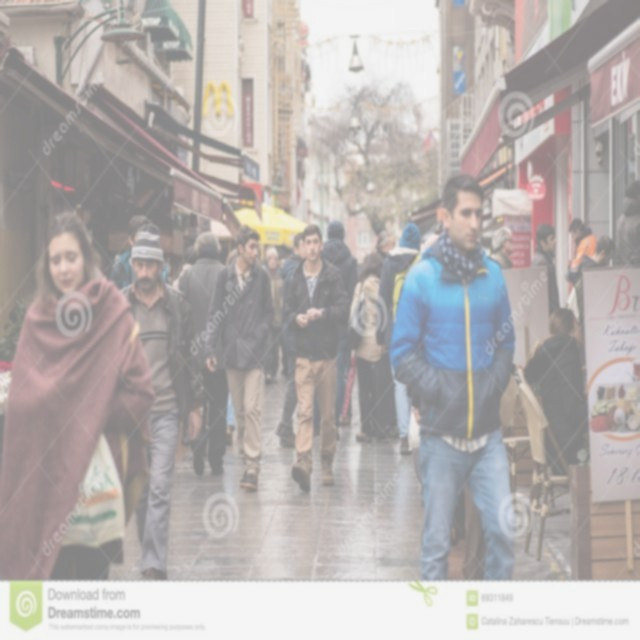pessoa: (0, 211, 155, 581), (388, 172, 516, 582), (117, 223, 203, 580), (204, 223, 276, 491), (283, 223, 351, 494), (176, 230, 234, 477), (522, 308, 588, 478), (376, 222, 424, 455), (312, 219, 359, 442), (348, 252, 388, 443), (274, 230, 308, 450), (310, 342, 376, 435), (108, 215, 168, 292), (224, 248, 240, 447), (530, 223, 562, 319), (266, 247, 284, 384), (564, 216, 600, 284), (614, 178, 640, 266), (170, 244, 200, 296), (581, 233, 618, 269), (489, 225, 513, 270), (421, 223, 442, 255), (374, 230, 396, 260), (258, 251, 290, 268), (3, 304, 17, 341)
